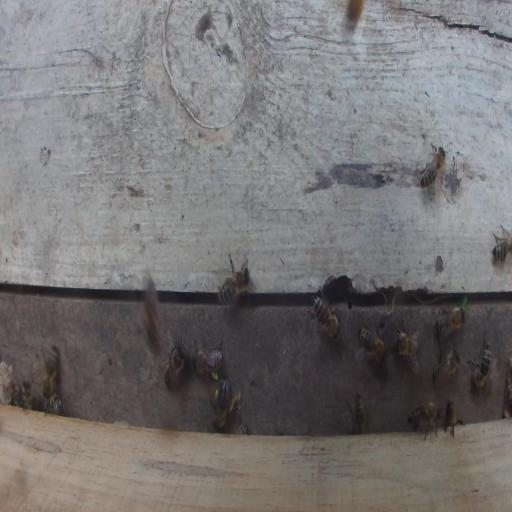bee: (211, 370, 242, 433), (310, 290, 342, 345), (212, 263, 250, 308), (465, 332, 493, 390), (406, 399, 443, 442), (418, 143, 448, 192), (357, 323, 389, 368), (433, 344, 462, 390), (191, 339, 224, 378), (433, 306, 467, 342), (40, 343, 61, 399), (392, 324, 420, 365), (341, 393, 368, 435), (143, 273, 157, 352), (164, 342, 188, 386), (490, 226, 512, 261), (445, 399, 465, 437), (44, 391, 63, 418)
